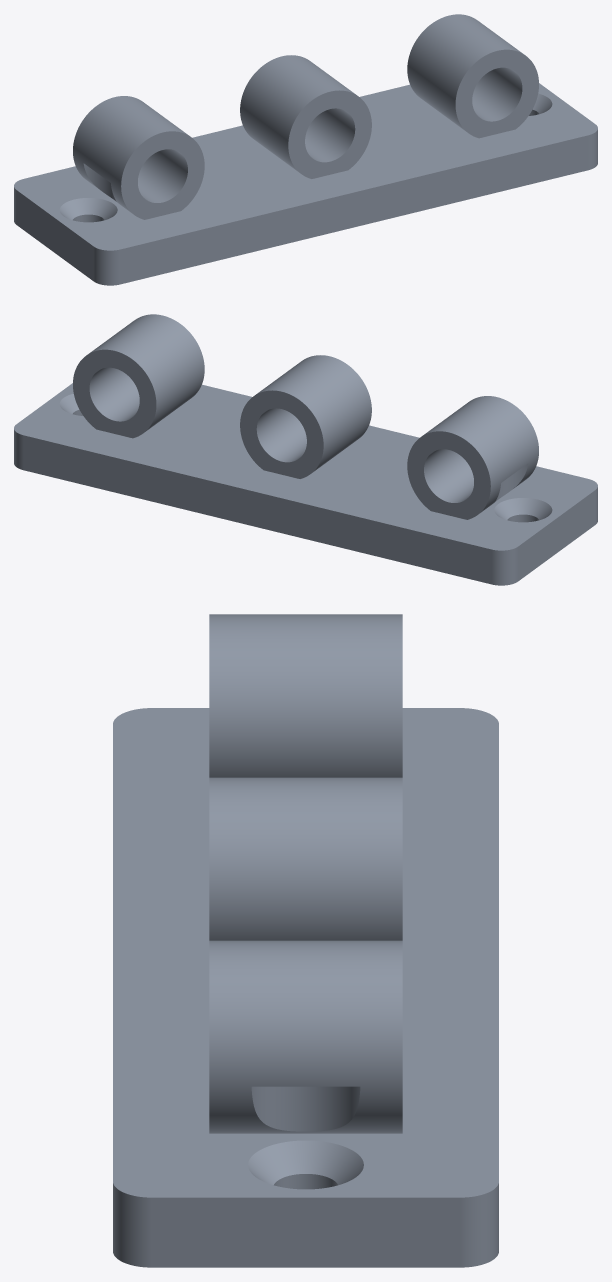
File: step-3.glb
The picture shows the model from 3 angles, top to bottom: view 1: azimuth 30°, elevation 25°; view 2: azimuth 150°, elevation 25°; view 3: azimuth 270°, elevation 25°; orthographic projection. The views are drawn at different scales.
Parts seen in each view (by area): view 1: face_2ed70853afbf12e52e49, face_0cf1c6c8ff477340574d, face_6356f095ab4b7d5536f7, face_7d723c6a15cb916351fb, face_41a3145f0ac0c08dfe58, face_f5f2043f39814757c4e0, face_52bd2e15cfcbeb44442a, face_41f1b08d80a013f17cc8, face_e3cfbd7efef03b13c3f1, face_9bf394f81bb9446e718b, face_5403799aa19867574626, face_11d636c49340b4f1a941 (+3 smaller); view 2: face_2ed70853afbf12e52e49, face_38f0cc691fa67c0da8fe, face_6356f095ab4b7d5536f7, face_7d723c6a15cb916351fb, face_41a3145f0ac0c08dfe58, face_523cb17f99a2b64daa27, face_732939311618bb5a4a1c, face_f76e8efecd189ee7d39d, face_e3cfbd7efef03b13c3f1, face_9bf394f81bb9446e718b, face_5403799aa19867574626, face_11d636c49340b4f1a941 (+3 smaller); view 3: face_2ed70853afbf12e52e49, face_7d723c6a15cb916351fb, face_41a3145f0ac0c08dfe58, face_6356f095ab4b7d5536f7, face_7038644c45c3d2fc786e, face_94ce081cc7d64b268f5c, face_18272f64a55ec9fdfebc, face_530647a1be6ec0688339, face_669ae224f578da3b98a9.
Boxes of the visible parts, x1,y1,x2,y2 form: face_2ed70853afbf12e52e49: (14,83,597,250); face_0cf1c6c8ff477340574d: (120,135,588,284); face_6356f095ab4b7d5536f7: (240,55,355,171); face_7d723c6a15cb916351fb: (407,14,522,131); face_41a3145f0ac0c08dfe58: (73,96,188,212); face_f5f2043f39814757c4e0: (455,49,538,138); face_52bd2e15cfcbeb44442a: (288,90,371,178); face_41f1b08d80a013f17cc8: (121,131,204,219); face_e3cfbd7efef03b13c3f1: (16,190,93,280); face_9bf394f81bb9446e718b: (305,108,355,162); face_5403799aa19867574626: (472,67,522,121); face_11d636c49340b4f1a941: (138,149,187,202); face_2ed70853afbf12e52e49: (14,383,597,550); face_38f0cc691fa67c0da8fe: (23,435,491,584); face_6356f095ab4b7d5536f7: (256,355,371,471); face_7d723c6a15cb916351fb: (89,314,204,431); face_41a3145f0ac0c08dfe58: (423,396,538,512); face_523cb17f99a2b64daa27: (73,349,156,438); face_732939311618bb5a4a1c: (240,390,323,478); face_f76e8efecd189ee7d39d: (407,431,490,519); face_e3cfbd7efef03b13c3f1: (518,490,595,580); face_9bf394f81bb9446e718b: (256,408,306,462); face_5403799aa19867574626: (89,367,139,421); face_11d636c49340b4f1a941: (424,449,473,502); face_2ed70853afbf12e52e49: (113,708,498,1197); face_7d723c6a15cb916351fb: (209,940,402,1133); face_41a3145f0ac0c08dfe58: (209,614,402,777); face_6356f095ab4b7d5536f7: (209,777,402,940); face_7038644c45c3d2fc786e: (151,1197,460,1267); face_94ce081cc7d64b268f5c: (251,1086,360,1131); face_18272f64a55ec9fdfebc: (248,1140,363,1184); face_530647a1be6ec0688339: (113,1183,151,1267); face_669ae224f578da3b98a9: (460,1183,498,1267).
Bounding box in the file's own units: 0.06 × 0.0135 × 0.02.
